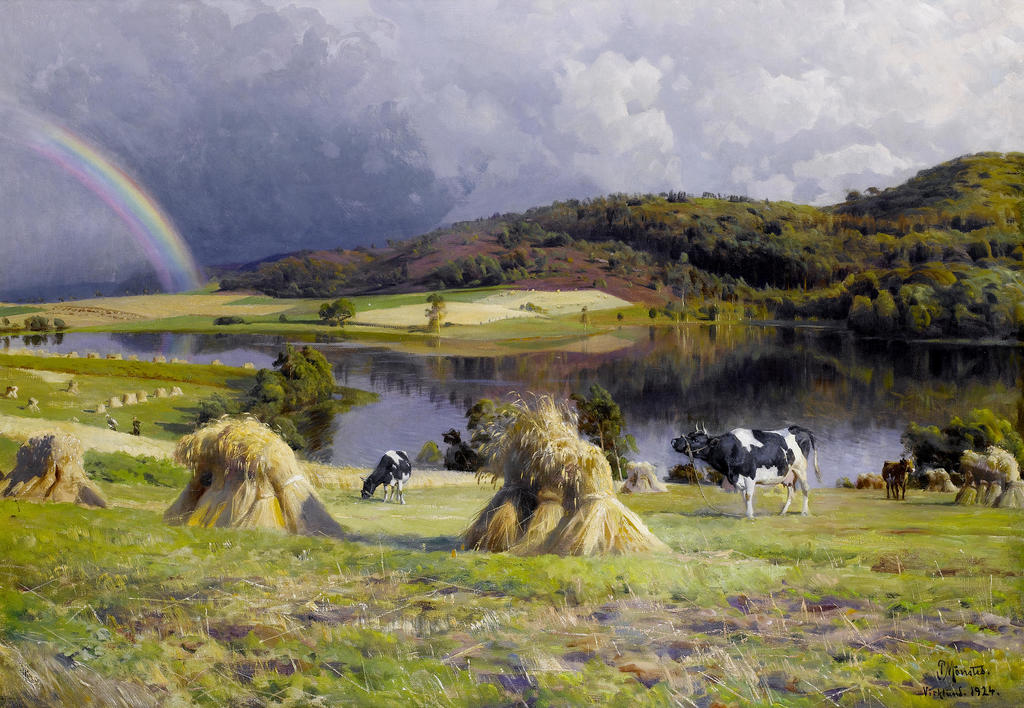Animal: (669, 419, 818, 516), (358, 449, 411, 502), (879, 453, 918, 502)
